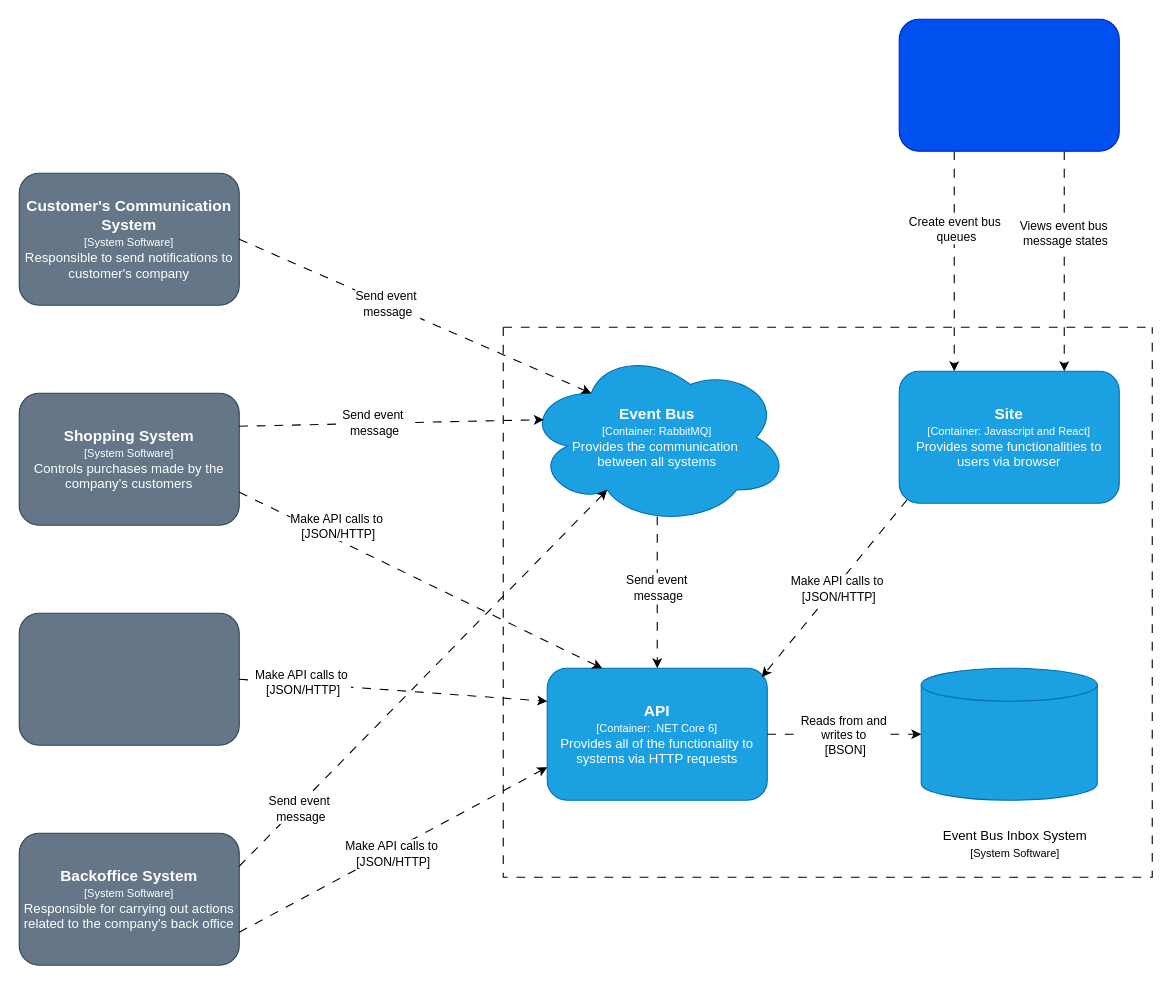
This 1172x985 diagram has some shape labels left out. Each missing label, with the box of its shape:
Company's Developer [Person] Responsible for maintaining the system: (898, 18, 1119, 151)
Database [Container: MongoDB] Stores every message received from event bus: (920, 667, 1097, 800)
Low-Code Tool [System Software] Tool responsible to automate some system actions: (18, 612, 239, 745)
